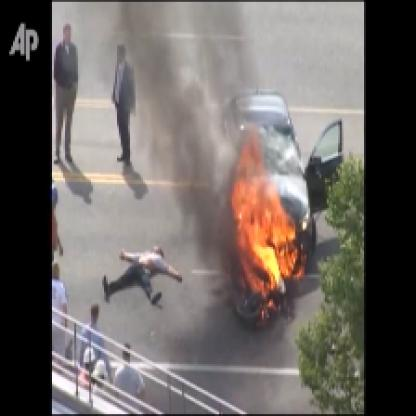Fire: (216, 123, 306, 310)
Smoke: (122, 4, 236, 267)
